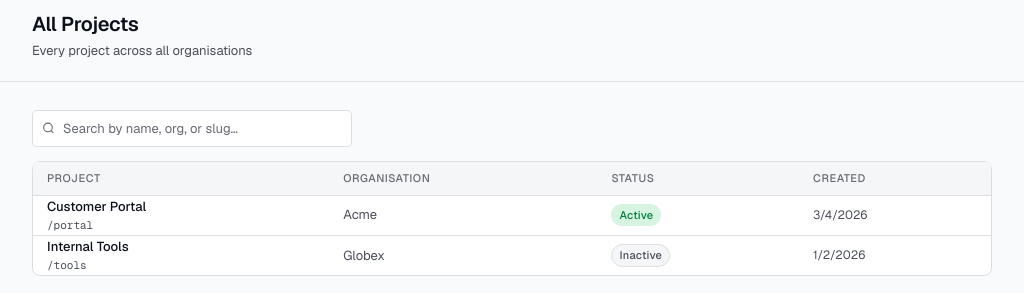
Test: the search box › matches on an organisation name, ignoring case
The width and height of the screenshot is (1024, 293).
expect the text "Customer Portal" is shown: met, box [47, 198, 146, 215]
Step 1. Type "globex" into the field with placeholder "Search by name, org, or slug…" → coordinates (192, 128), box [32, 110, 352, 147]
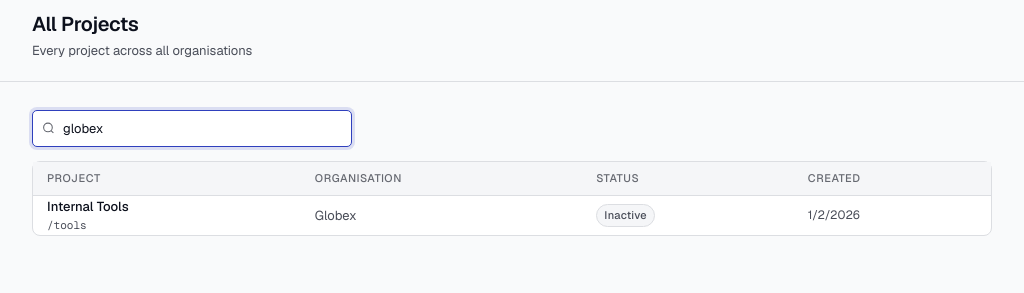
expect the text "Internal Tools" is shown: met, box [47, 198, 129, 215]
expect the number of rows is 2: met, box [33, 162, 991, 195]; [33, 195, 991, 235]
